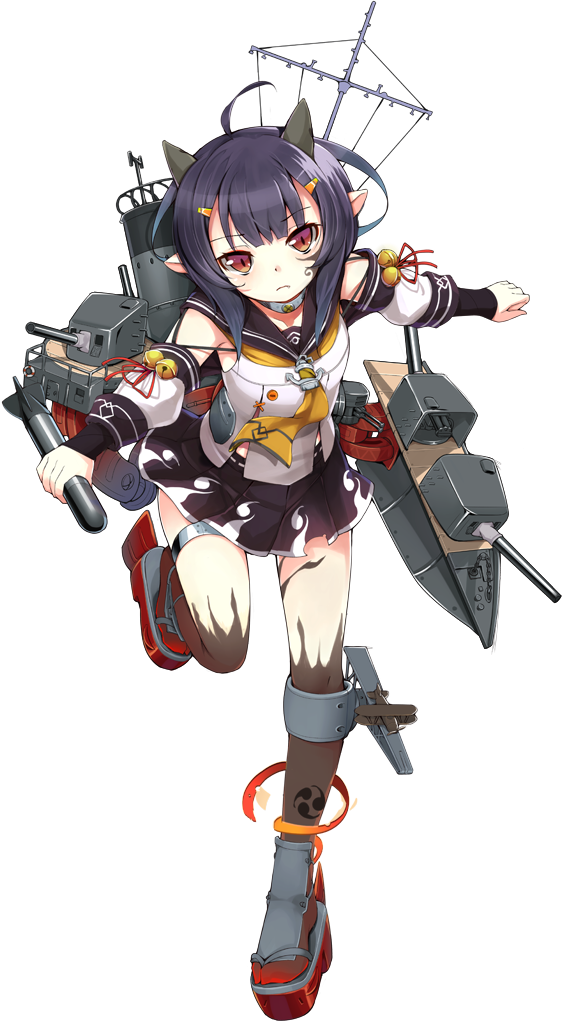person: (53, 121, 463, 783)
